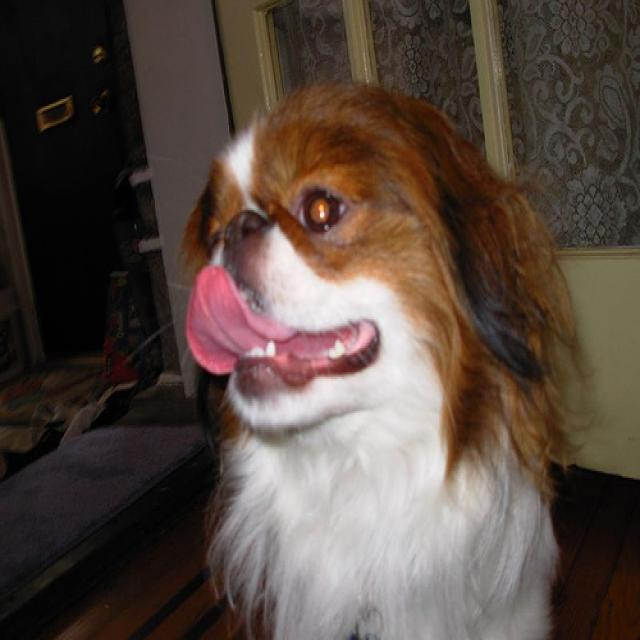dog-japanese_chin: (165, 70, 585, 637)
